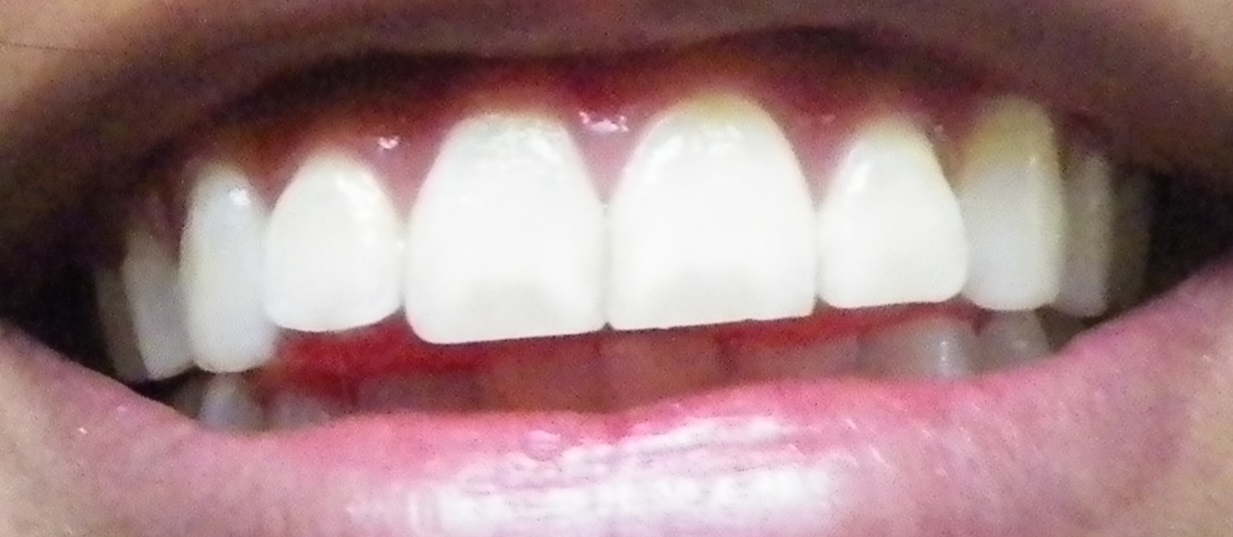boca: (100, 110, 1155, 432)
